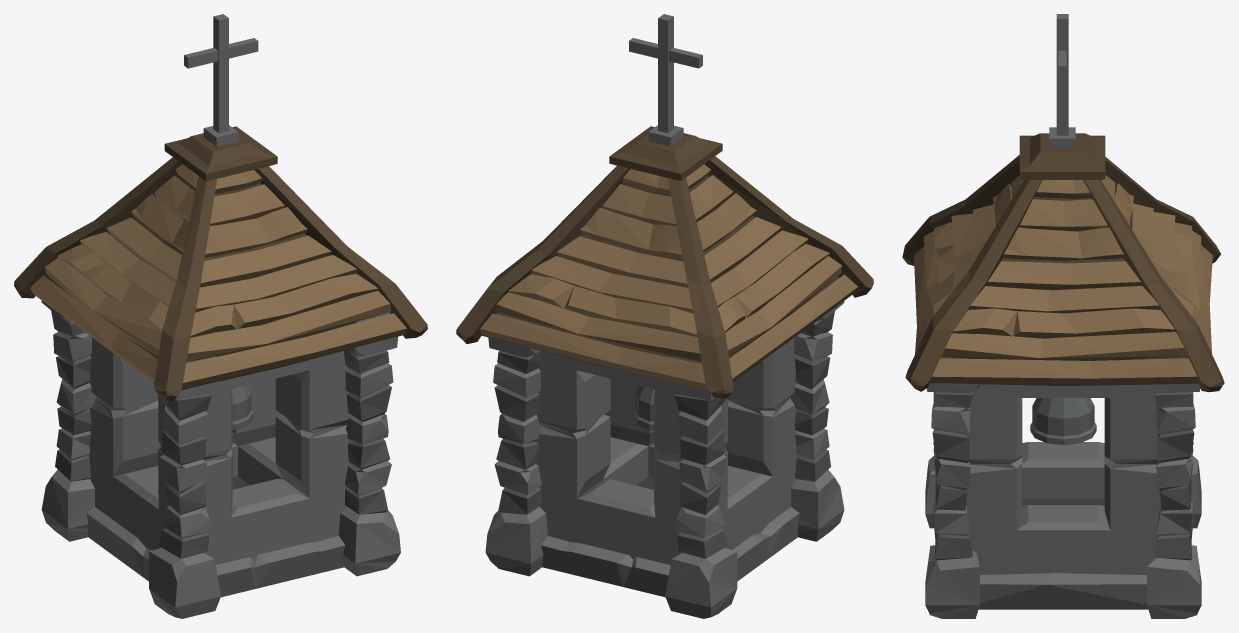
Rendered from SM_Bld_Church_Tower_01_Lite.gltf.
3 views of the same model, side by side, from view 1: azimuth 30°, elevation 25°; view 2: azimuth 150°, elevation 25°; view 3: azimuth 270°, elevation 25° (orthographic). The views are drawn at different scales.
Parts seen in each view (by area): view 1: SM_Bld_Church_Tower_01_Lite; view 2: SM_Bld_Church_Tower_01_Lite; view 3: SM_Bld_Church_Tower_01_Lite.
Boxes of the visible parts, <box> form: SM_Bld_Church_Tower_01_Lite: <box>14,14,427,618</box>; SM_Bld_Church_Tower_01_Lite: <box>456,14,873,618</box>; SM_Bld_Church_Tower_01_Lite: <box>902,14,1224,618</box>.
Bounding box in the file's own units: 3.59 × 6.66 × 3.56.
1 material, 1 textured.
